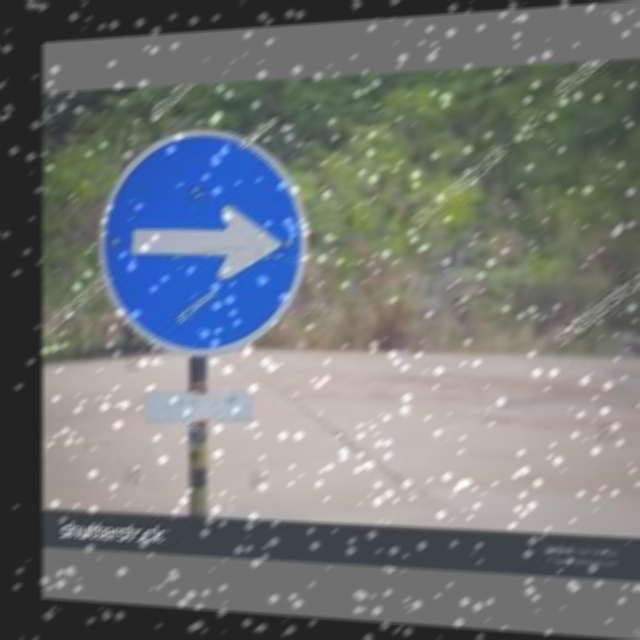Compulsory_Turn_Right: (107, 122, 307, 357)
